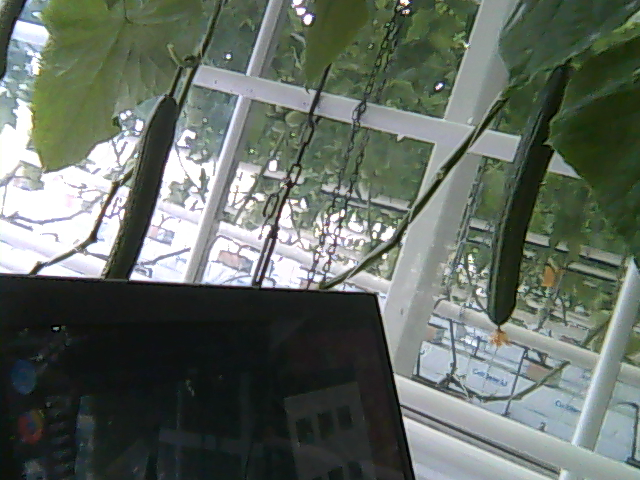concombre: (482, 58, 578, 350), (97, 86, 183, 281)
